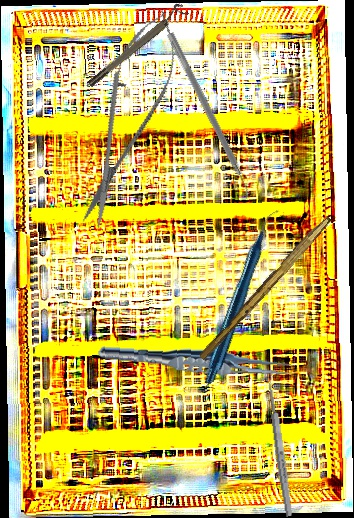Fixation Ring: (83, 1, 189, 89)
Handpiece: (148, 208, 339, 386)
Micro Scissor: (62, 1, 193, 237)
Scalpel Handle: (197, 211, 333, 364)
Spatula Surgical: (160, 32, 256, 201)
Surgical Spoon: (263, 370, 295, 517)
Tissue Forceps: (97, 342, 299, 381)
